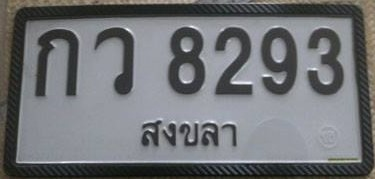txt01: (30, 26, 82, 99)
txt32: (92, 25, 138, 96)
